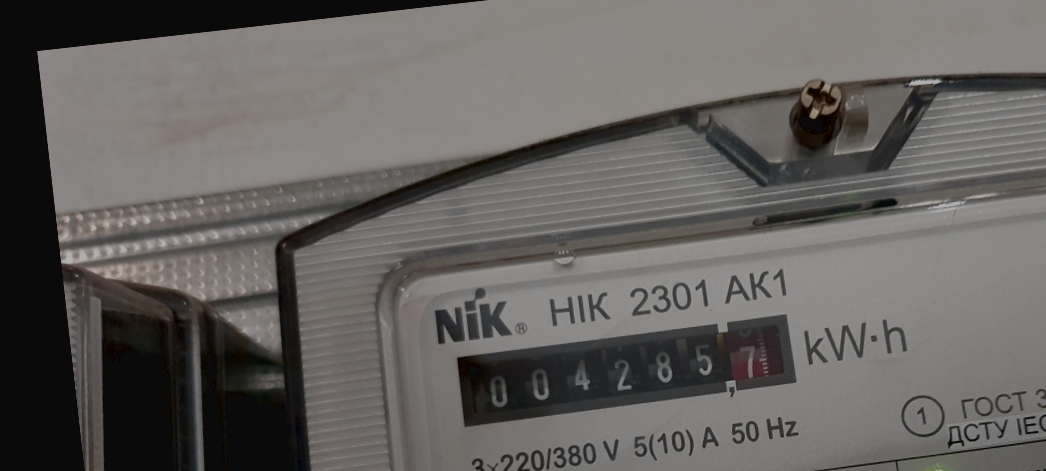0: (527, 363, 553, 402), (486, 371, 511, 408)
2: (611, 355, 634, 392)
4: (571, 356, 592, 392)
5: (691, 339, 716, 377)
7: (736, 342, 760, 380)
8: (650, 347, 676, 386)
screen: (439, 301, 813, 440)
